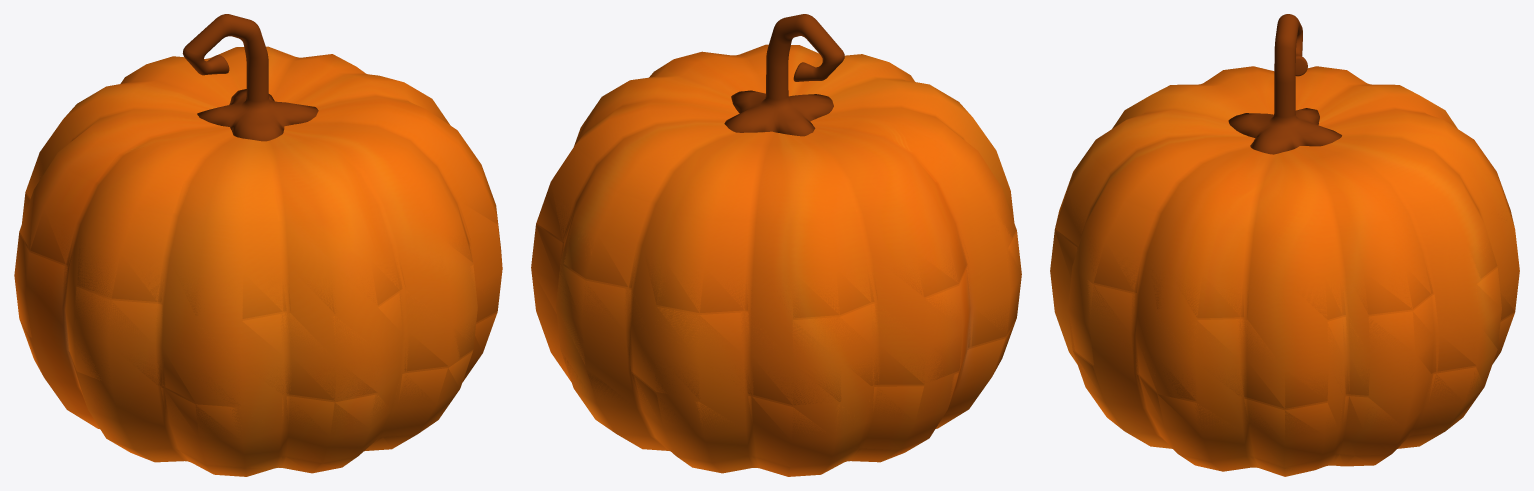
Rendered from pumkin.fbx.
The picture shows the model from 3 angles, left to right: view 1: azimuth 30°, elevation 25°; view 2: azimuth 150°, elevation 25°; view 3: azimuth 270°, elevation 25°; orthographic projection. The views are drawn at different scales.
Parts seen in each view (by area): view 1: pumpkin., pumpkin 001, pumpkin.004, pumpkin.003, pumpkin.005; view 2: pumpkin., pumpkin 001, pumpkin.004, pumpkin.003, pumpkin.005; view 3: pumpkin., pumpkin 001, pumpkin.004, pumpkin.003, pumpkin.005.
Part boxes in pixels (box(x1,y1,x2,y2)): pumpkin.: box(14, 14, 502, 476); pumpkin 001: box(19, 120, 497, 318); pumpkin.004: box(14, 194, 502, 405); pumpkin.003: box(44, 313, 497, 466); pumpkin.005: box(176, 434, 416, 476); pumpkin.: box(531, 14, 1021, 476); pumpkin 001: box(536, 98, 1016, 318); pumpkin.004: box(531, 225, 1021, 405); pumpkin.003: box(550, 338, 1005, 466); pumpkin.005: box(653, 410, 967, 476); pumpkin.: box(1050, 14, 1519, 476); pumpkin 001: box(1055, 111, 1514, 319); pumpkin.004: box(1051, 230, 1519, 408); pumpkin.003: box(1067, 313, 1514, 466); pumpkin.005: box(1158, 432, 1443, 476).
Size of the model in its own units: 64.22 by 59.23 by 64.85.
2 materials, 1 textured.
